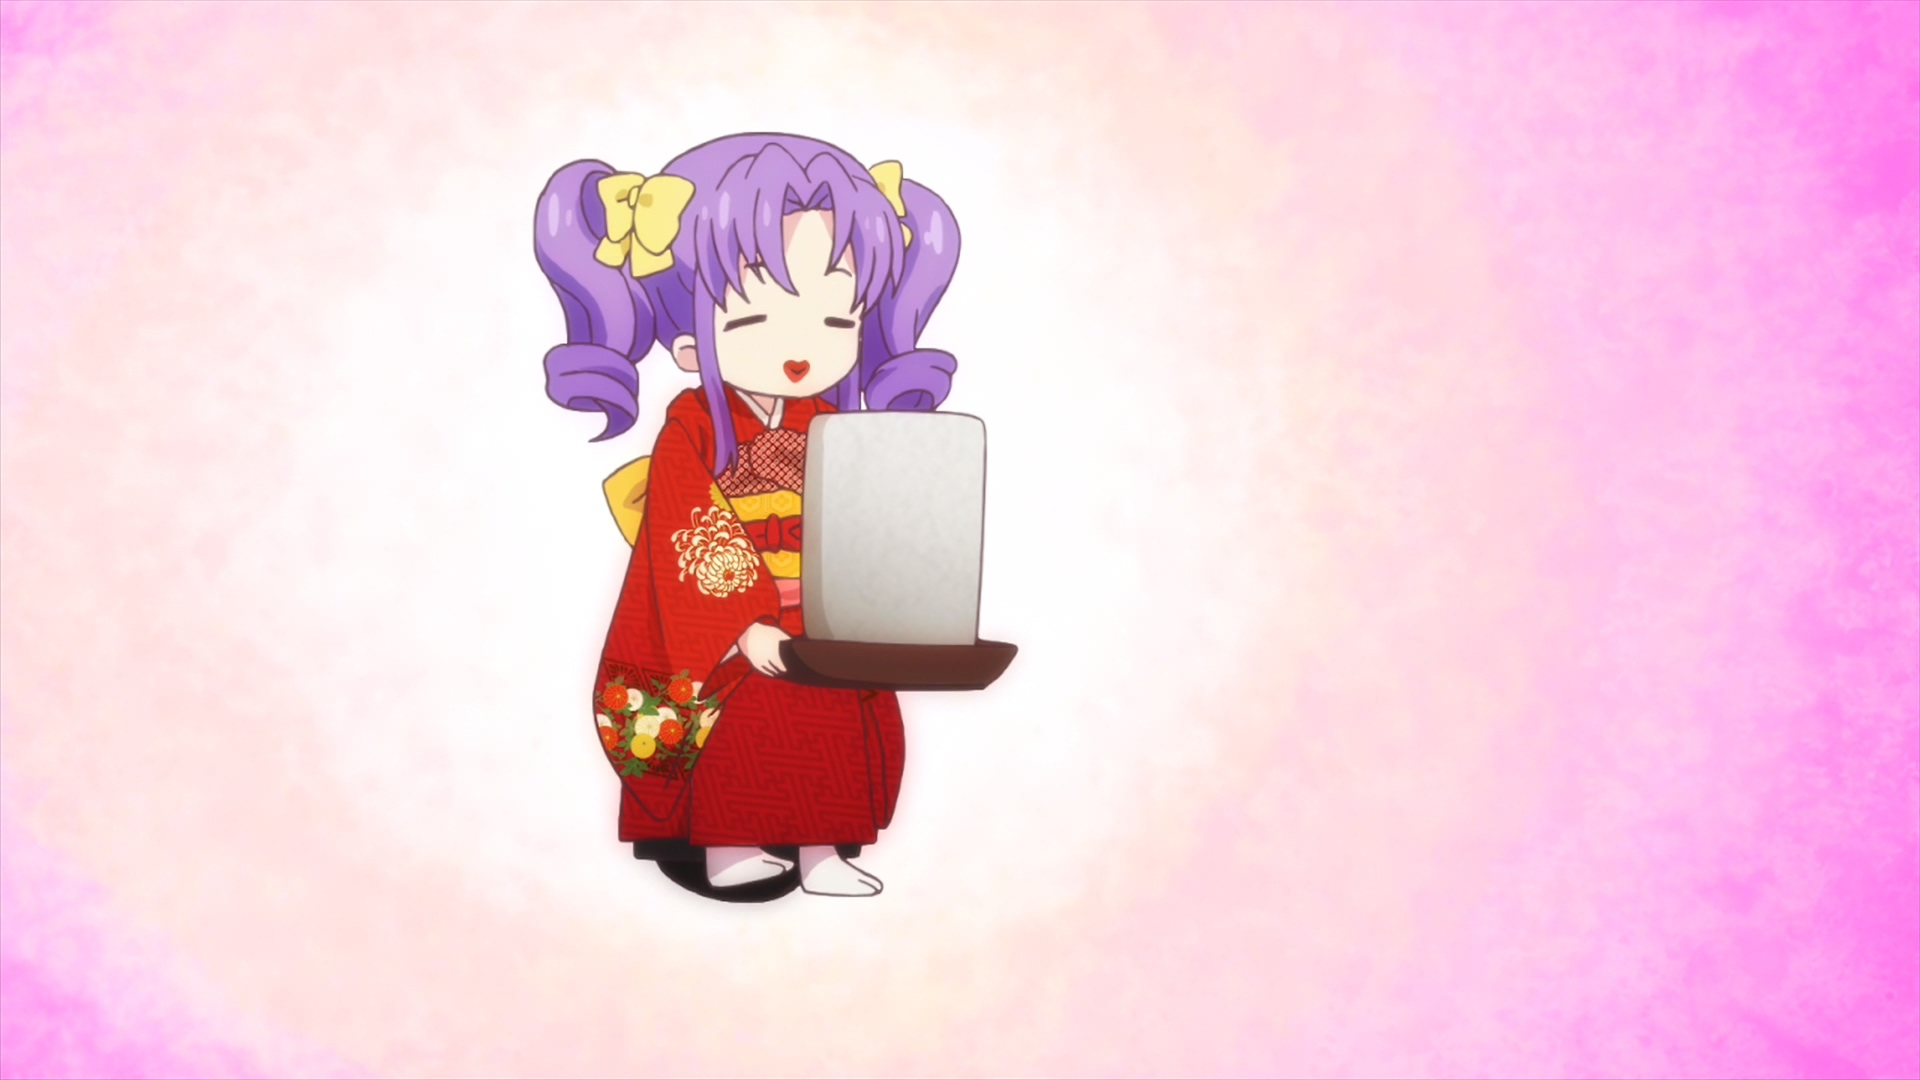阿菊: (534, 132, 961, 897)
